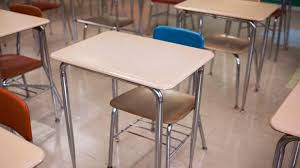desk: (173, 0, 281, 110), (49, 29, 115, 167)
